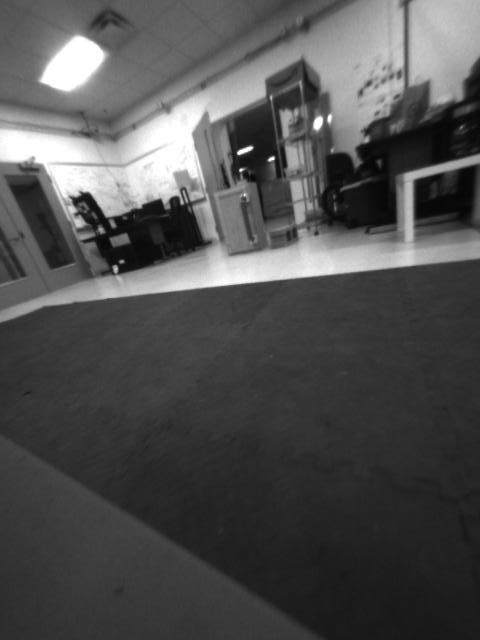coffee_pot: (442, 98, 480, 159)
